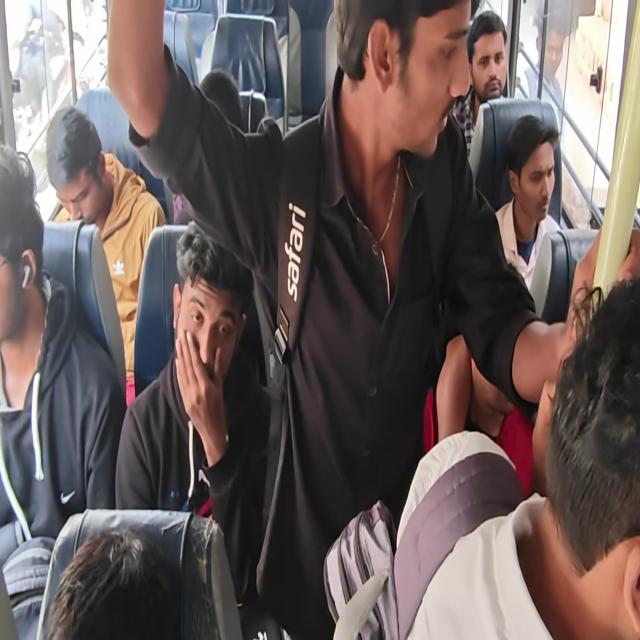person: (106, 0, 629, 638), (323, 276, 639, 638), (114, 218, 272, 619), (0, 146, 128, 638), (434, 113, 563, 445), (45, 106, 166, 407), (43, 524, 182, 638), (493, 113, 563, 293), (448, 10, 509, 160), (521, 1, 574, 134)
